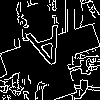A: (25, 25, 72, 79)
